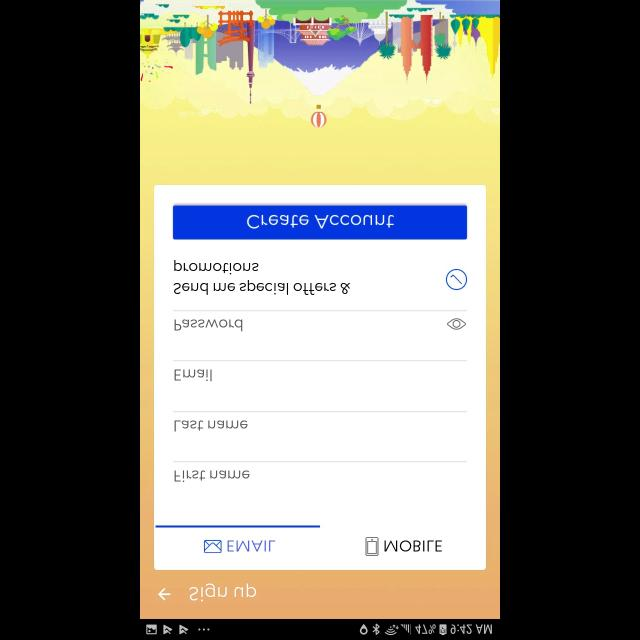icon: (446, 270, 466, 290), (366, 536, 378, 556), (448, 318, 467, 330), (204, 540, 222, 552), (158, 588, 172, 600)
image: (140, 0, 499, 129)
input: (173, 359, 467, 381), (173, 310, 467, 332), (173, 461, 467, 482), (173, 411, 467, 432)
text: (174, 260, 350, 296), (190, 582, 256, 602), (175, 318, 243, 332), (174, 470, 250, 482), (175, 421, 248, 432), (384, 540, 442, 552), (228, 540, 276, 552), (174, 368, 212, 382)
textbutton: (173, 205, 467, 239)
uppertaskbar: (140, 618, 500, 640)
